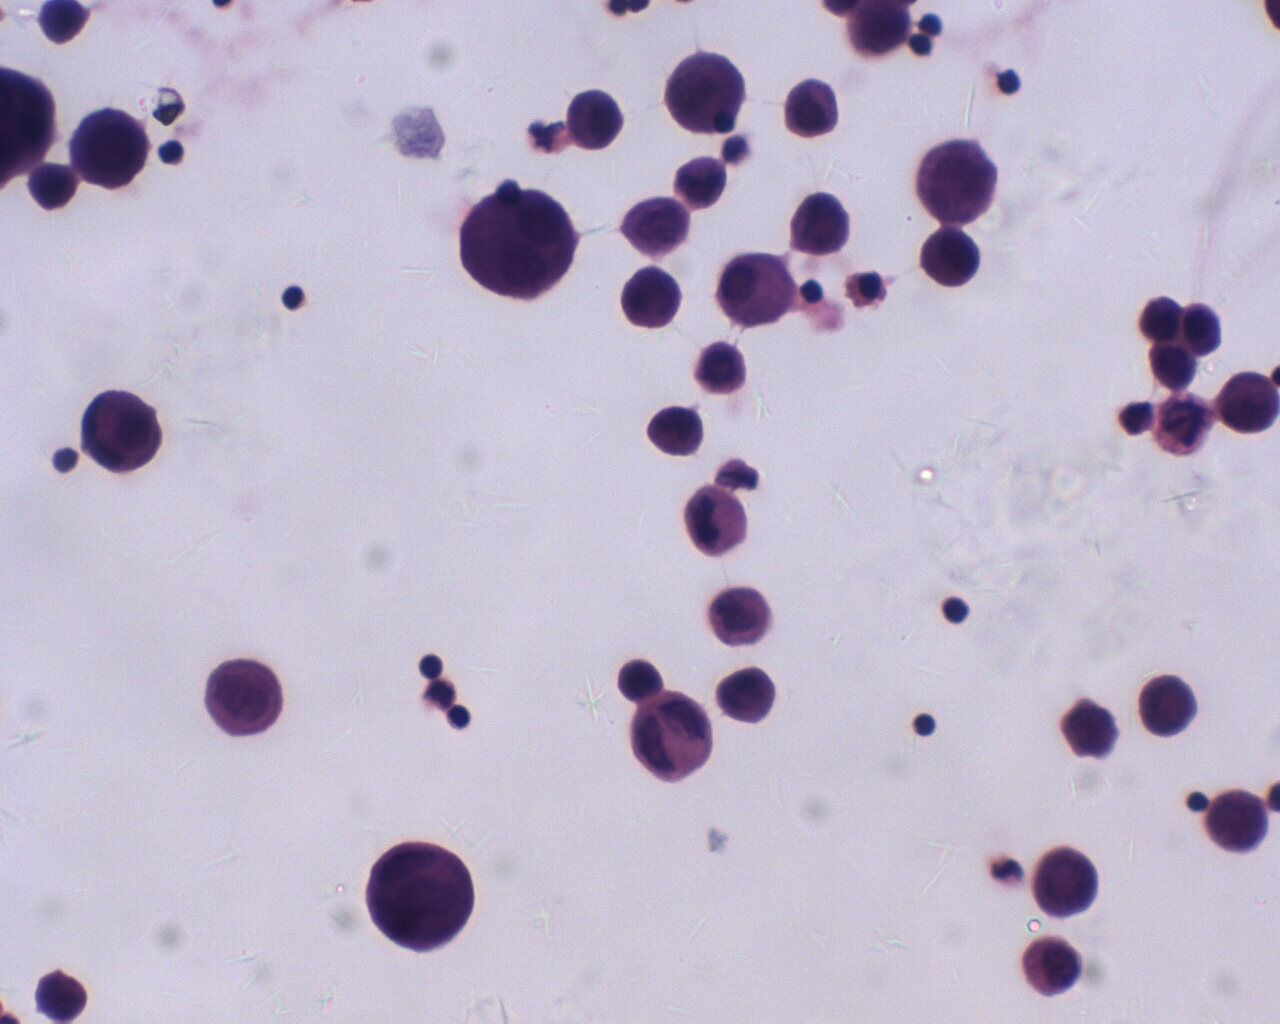ab: (455, 185, 574, 305), (368, 839, 478, 953), (918, 134, 1000, 227), (69, 104, 152, 195), (80, 391, 164, 474), (206, 654, 285, 740), (1031, 841, 1107, 917), (616, 193, 694, 260), (1132, 669, 1202, 742), (620, 266, 685, 332)
lymph: (413, 651, 449, 685), (940, 594, 973, 626), (280, 284, 307, 312), (53, 444, 77, 475), (913, 708, 938, 734)
meso: (721, 248, 798, 325)
